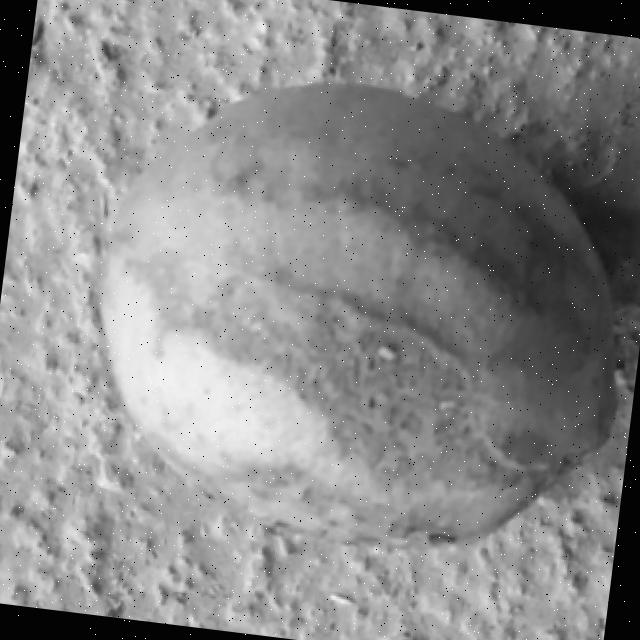overripe: (63, 53, 640, 584)
